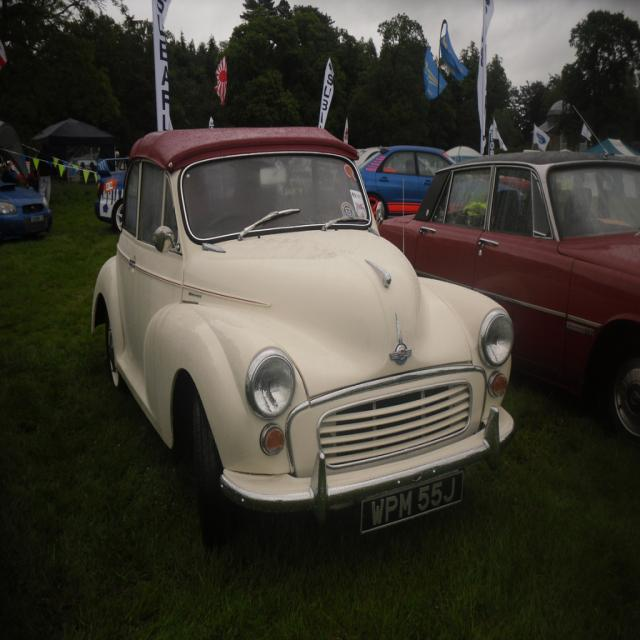car: (87, 126, 517, 541), (378, 147, 639, 449), (355, 147, 514, 218), (0, 163, 51, 246), (90, 162, 122, 234)
